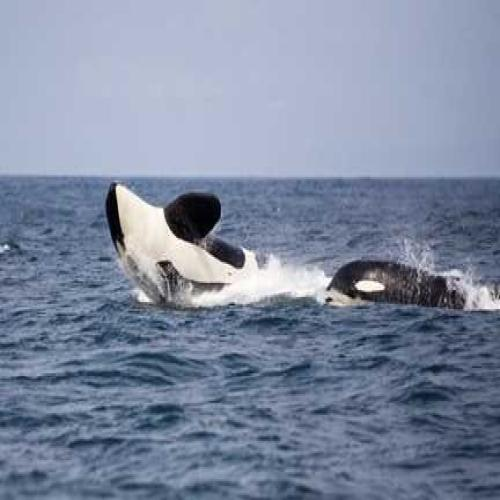killer_whale-endangered: (95, 152, 312, 338), (317, 238, 493, 324)
